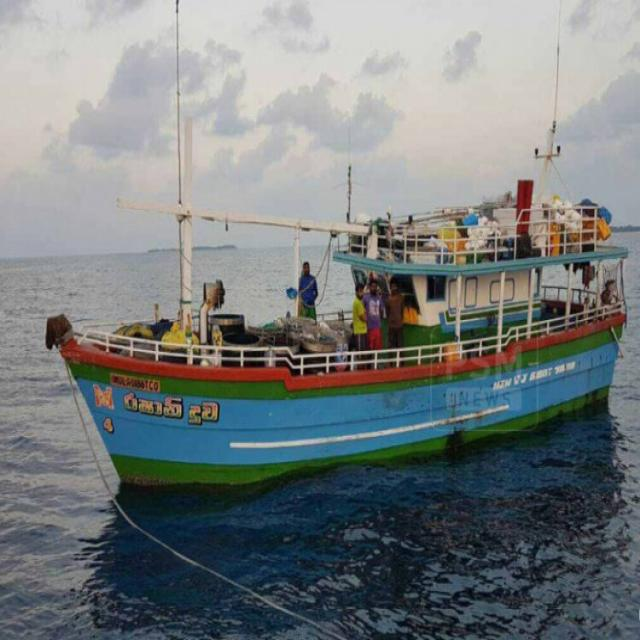Fishing Boat: (63, 103, 588, 468)
